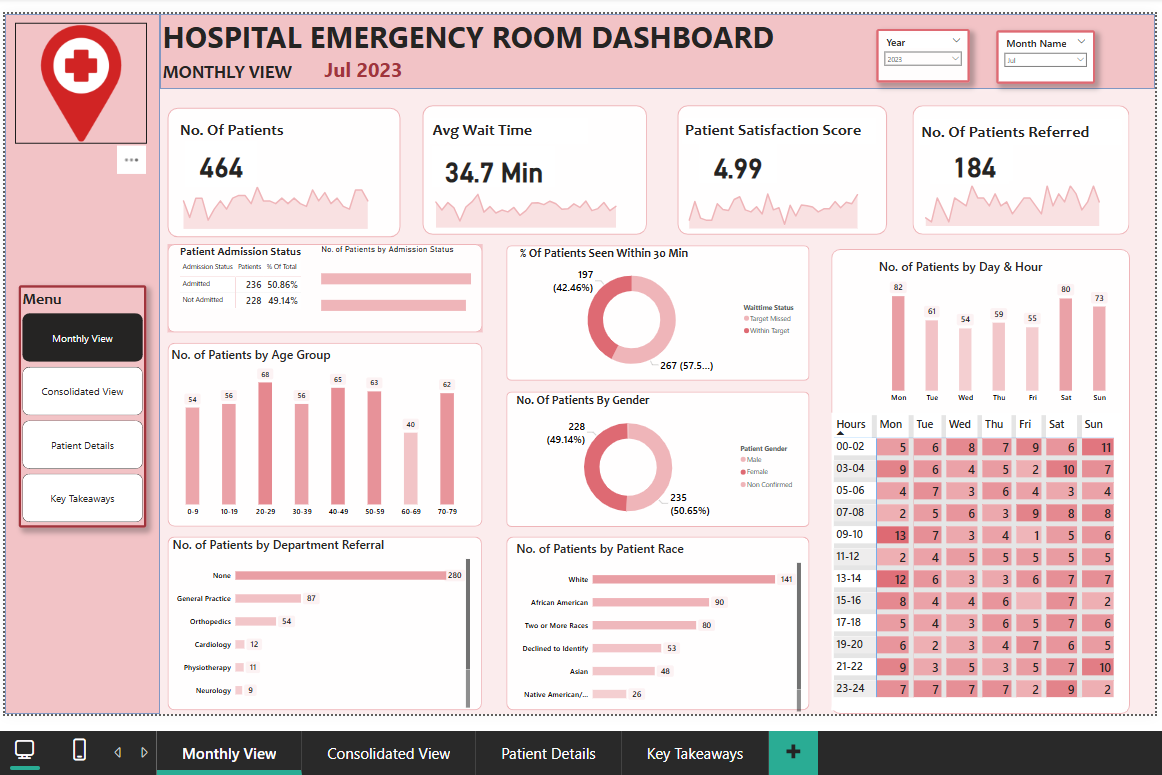

What the dashboard file says about the page in this screenshot:
{"tool":"powerbi","page":{"name":"Monthly View","canvas":[2300,1400],"ordinal":0},"visuals":[{"type":"shape","box":[0,0,310,1400],"z":0},{"type":"shape","box":[325.5,187.4,466,258.9],"z":1000},{"type":"shape","box":[310,0,1990,150],"z":2000},{"type":"textbox","box":[310,32.5,1250,85],"z":3000},{"type":"textbox","box":[310,0,1250,107.5],"z":4000},{"type":"shape","box":[1343.8,182.5,419.2,258.9],"z":5000},{"type":"textbox","box":[310,87.5,360,62.5],"z":6000},{"type":"cardVisual","fields":{"Data":["Hospital ER_Data.Number of Patients"]},"box":[355.1,249,155.3,101.1],"z":7000},{"type":"slicer","fields":{"Values":["Date Table.Year"]},"box":[1742.5,30,187.5,107.5],"z":8000},{"type":"shape","box":[835.9,182.5,448.8,258.9],"z":9000},{"type":"slicer","fields":{"Values":["Date Table.Month Name"]},"box":[1982.5,32.5,197.5,107.5],"z":10000},{"type":"textbox","box":[345.2,207.1,372.3,64.1],"z":11000},{"type":"stackedAreaChart","fields":{"Category":["Date Table.Date.Variation.Date Hierarchy.Day"],"Y":["Hospital ER_Data.No. of Patients"]},"box":[330,332.5,460,102.5],"z":12000},{"type":"card","fields":{"Values":["Min(Date Table.Month & Year)"]},"box":[596.7,69,239.2,78.9],"z":13000},{"type":"textbox","box":[355.1,184.9,372.3,41.9],"z":14000},{"type":"textbox","box":[1355,207.5,387.5,52.5],"z":15000},{"type":"cardVisual","fields":{"Data":["Avg(Hospital ER_Data.Patient Satisfaction Score)"]},"box":[1382.5,252.5,167.5,90],"z":16000},{"type":"cardVisual","fields":{"Data":["Hospital ER_Data.Avg Wait Time"]},"box":[850.7,258.9,256.4,91.2],"z":17000},{"type":"shape","box":[325,460,630,177],"z":18000},{"type":"cardVisual","fields":{"Data":["Hospital ER_Data.Number of Patients"]},"box":[1845,252.5,167.5,92.5],"z":19000},{"type":"shape","box":[1814.8,182.5,434,258.9],"z":20000},{"type":"stackedAreaChart","fields":{"Category":["Date Table.Date.Variation.Date Hierarchy.Day"],"Y":["Avg(Hospital ER_Data.Patient Waittime)"]},"box":[835,330,450,102.5],"z":21000},{"type":"textbox","box":[850.7,207.1,315.6,51.8],"z":22000},{"type":"stackedAreaChart","fields":{"Category":["Date Table.Date.Variation.Date Hierarchy.Day"],"Y":["Hospital ER_Data.Satisfaction Score"]},"box":[1342.5,332.5,422.5,102.5],"z":23000},{"type":"textbox","box":[1827.5,210,407.5,52.5],"z":24000},{"type":"stackedAreaChart","fields":{"Category":["Date Table.Date.Variation.Date Hierarchy.Day"],"Y":["Hospital ER_Data.No. Of Patients Referred"]},"box":[1815,330,435,100],"z":25000},{"type":"cardVisual","fields":{"Data":["Hospital ER_Data.No. Of Patients Referred"]},"box":[1855,250,167.5,90],"z":26000},{"type":"pivotTable","title":"Patient Admission Status","fields":{"Rows":["Hospital ER_Data.Admission Status"],"Values":["Hospital ER_Data.No. of Patients1","Hospital ER_Data.No. of Patients"]},"box":[345,460,325,172.5],"z":27000},{"type":"barChart","fields":{"Y":["Hospital ER_Data.No. of Patients"],"Category":["Hospital ER_Data.Admission Status"]},"box":[627.5,460,327.5,170],"z":28000},{"type":"shape","box":[325,657.5,630,368],"z":29000},{"type":"clusteredColumnChart","fields":{"Category":["Hospital ER_Data.Age Group"],"Y":["Hospital ER_Data.No. of Patients"]},"box":[327.9,665.7,606.6,350.1],"z":30000},{"type":"shape","box":[325.5,1045.5,628.8,347.7],"z":31000},{"type":"clusteredBarChart","fields":{"Category":["Hospital ER_Data.Department Referral"],"Y":["Hospital ER_Data.No. of Patients"]},"box":[330,1045,605,347.5],"z":32000},{"type":"shape","box":[1003.5,463.6,606.6,271.2],"z":33000},{"type":"donutChart","title":"% Of Patients Seen Within 30 Min","fields":{"Category":["Hospital ER_Data.Waittime Status"],"Y":["Hospital ER_Data.No. of Patients"]},"box":[1025.7,463.6,572,268.8],"z":34000},{"type":"shape","box":[1003.5,754.5,606.6,271.2],"z":35000},{"type":"donutChart","title":"No. Of Patients By Gender","fields":{"Y":["Hospital ER_Data.No. of Patients"],"Category":["Hospital ER_Data.Patient Gender"]},"box":[1018.3,757,572,268.8],"z":36000},{"type":"shape","box":[1003.5,1045.5,606.6,347.7],"z":37000},{"type":"clusteredBarChart","fields":{"Y":["Hospital ER_Data.No. of Patients"],"Category":["Hospital ER_Data.Patient Race"]},"box":[1018.3,1052.9,579.4,347.7],"z":38000},{"type":"shape","box":[1652.5,470,597.5,930],"z":39000},{"type":"pivotTable","fields":{"Rows":["Hospital ER_Data.Waittime Interval"],"Columns":["Date Table.Day Name"],"Values":["Hospital ER_Data.No. of Patients"]},"box":[1652.5,797.5,582.5,595],"z":40000},{"type":"columnChart","title":"No. of Patients by Day & Hour","fields":{"Category":["Date Table.Day Name"],"Y":["Hospital ER_Data.No. of Patients"]},"box":[1742.5,487.5,492.5,300],"z":41000},{"type":"image","box":[20,17.5,265,242.5],"z":42000},{"type":"pageNavigator","title":"Menu","box":[27.5,542.5,255,485],"z":42001}]}

Visuals, with their boxes on the page's 2300x1400 design canvas (x1, y1, x2, y2). These are canvas units, not pixel positions in the 1162x775 screenshot, which may show the page scaled, cropped or inside an application window:
shape: 0:0:310:1400
shape: 326:187:792:446
shape: 310:0:2300:150
textbox: 310:32:1560:118
textbox: 310:0:1560:108
shape: 1344:182:1763:441
textbox: 310:88:670:150
cardVisual - Hospital ER_Data.Number of Patients: 355:249:510:350
slicer - Date Table.Year: 1742:30:1930:138
shape: 836:182:1285:441
slicer - Date Table.Month Name: 1982:32:2180:140
textbox: 345:207:718:271
stackedAreaChart - Date Table.Date.Variation.Date Hierarchy.Day x Hospital ER_Data.No. of Patients: 330:332:790:435
card - Min(Date Table.Month & Year): 597:69:836:148
textbox: 355:185:727:227
textbox: 1355:208:1742:260
cardVisual - Avg(Hospital ER_Data.Patient Satisfaction Score): 1382:252:1550:342
cardVisual - Hospital ER_Data.Avg Wait Time: 851:259:1107:350
shape: 325:460:955:637
cardVisual - Hospital ER_Data.Number of Patients: 1845:252:2012:345
shape: 1815:182:2249:441
stackedAreaChart - Date Table.Date.Variation.Date Hierarchy.Day x Avg(Hospital ER_Data.Patient Waittime): 835:330:1285:432
textbox: 851:207:1166:259
stackedAreaChart - Date Table.Date.Variation.Date Hierarchy.Day x Hospital ER_Data.Satisfaction Score: 1342:332:1765:435
textbox: 1828:210:2235:262
stackedAreaChart - Date Table.Date.Variation.Date Hierarchy.Day x Hospital ER_Data.No. Of Patients Referred: 1815:330:2250:430
cardVisual - Hospital ER_Data.No. Of Patients Referred: 1855:250:2022:340
"Patient Admission Status" pivotTable: 345:460:670:632
barChart - Hospital ER_Data.No. of Patients x Hospital ER_Data.Admission Status: 628:460:955:630
shape: 325:658:955:1026
clusteredColumnChart - Hospital ER_Data.Age Group x Hospital ER_Data.No. of Patients: 328:666:934:1016
shape: 326:1046:954:1393
clusteredBarChart - Hospital ER_Data.Department Referral x Hospital ER_Data.No. of Patients: 330:1045:935:1392
shape: 1004:464:1610:735
"% Of Patients Seen Within 30 Min" donutChart: 1026:464:1598:732
shape: 1004:754:1610:1026
"No. Of Patients By Gender" donutChart: 1018:757:1590:1026
shape: 1004:1046:1610:1393
clusteredBarChart - Hospital ER_Data.No. of Patients x Hospital ER_Data.Patient Race: 1018:1053:1598:1401
shape: 1652:470:2250:1400
pivotTable - Hospital ER_Data.Waittime Interval x Date Table.Day Name: 1652:798:2235:1392
"No. of Patients by Day & Hour" columnChart: 1742:488:2235:788
image: 20:18:285:260
"Menu" pageNavigator: 28:542:282:1028
